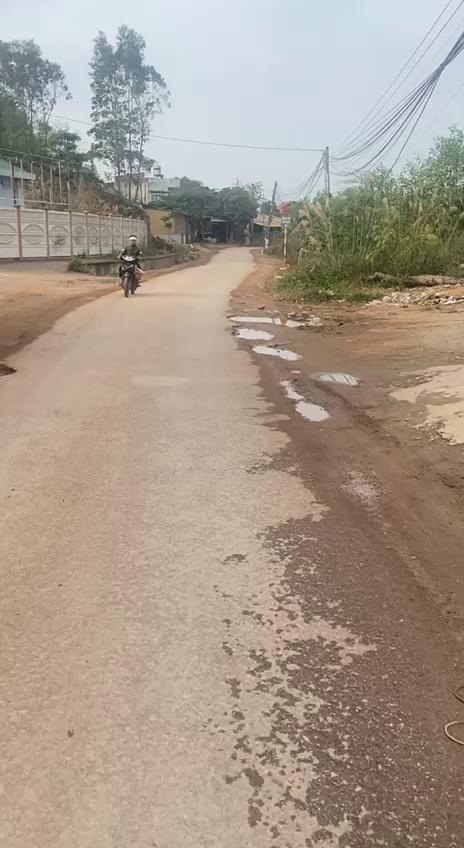pothole: (246, 344, 305, 363), (226, 312, 298, 326), (230, 324, 276, 340)
